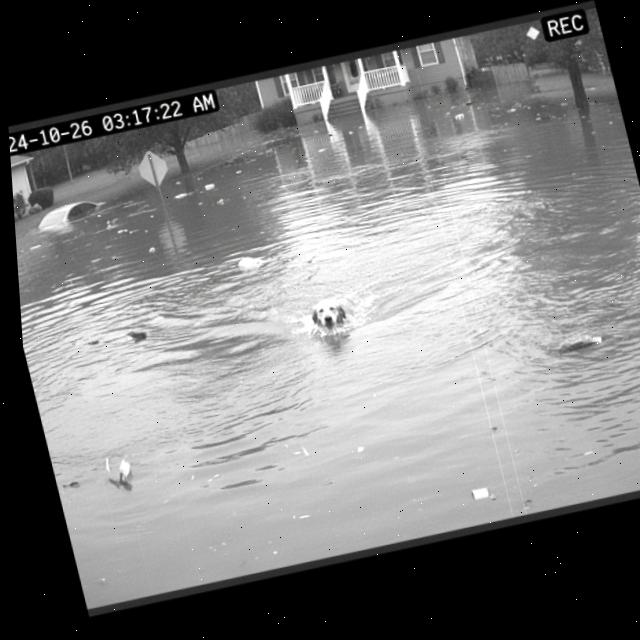dog: (287, 285, 369, 349)
